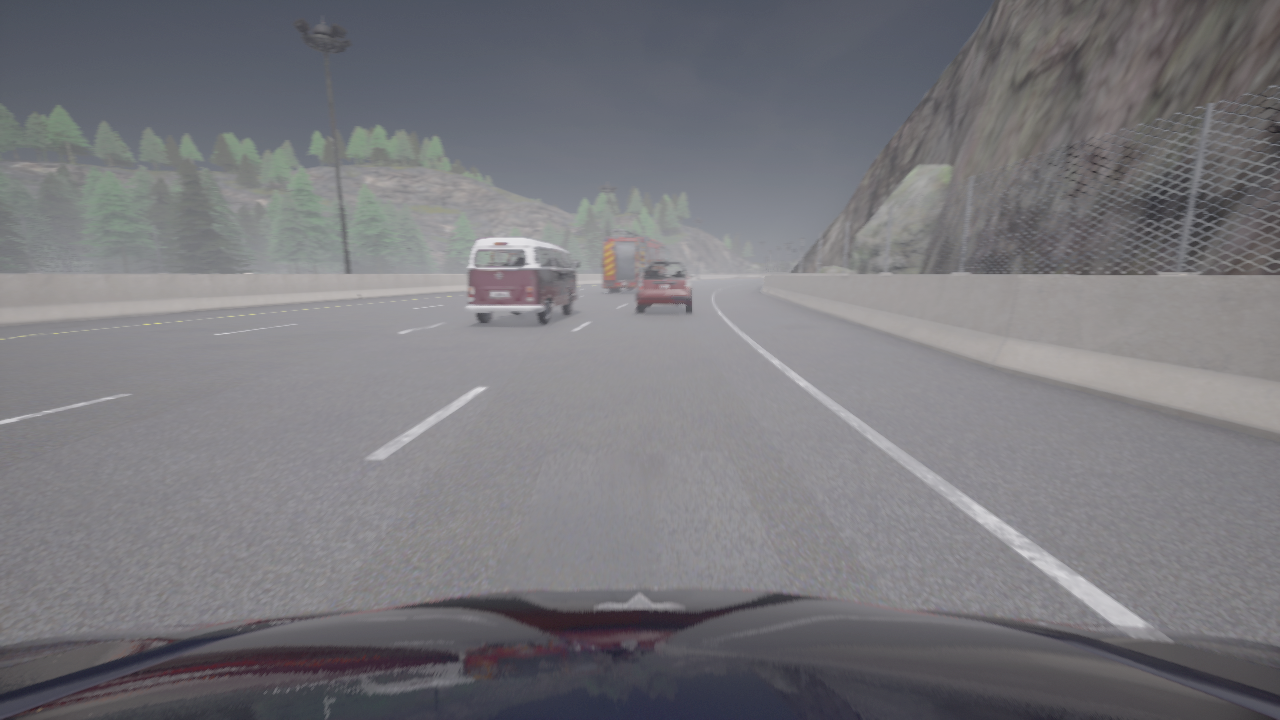cyclist: (0, 588, 1279, 719), (466, 237, 579, 324), (603, 229, 669, 292), (636, 261, 695, 313)
